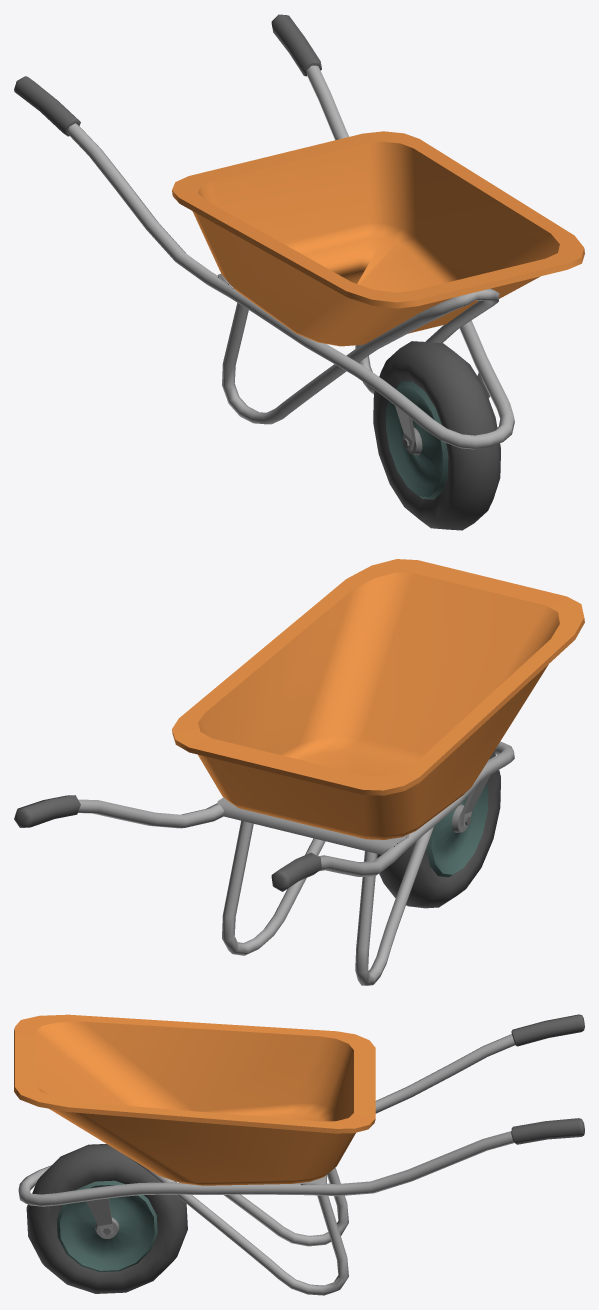
The model's file is WheelbarrowO.gltf.
3 renders of one model, top to bottom at view 1: azimuth 30°, elevation 25°; view 2: azimuth 150°, elevation 25°; view 3: azimuth 270°, elevation 25°, orthographic. The views are drawn at different scales.
Parts seen in each view (by area): view 1: body, wheel_0, wheel_1; view 2: body, wheel_0; view 3: body, wheel_0, wheel_2.
Boxes of the visible parts, box(x1,y1,x2,y2) form: body: box(14, 14, 584, 496); wheel_0: box(373, 341, 500, 530); wheel_1: box(395, 381, 448, 499); body: box(14, 559, 584, 985); wheel_0: box(377, 751, 500, 908); body: box(14, 1014, 584, 1295); wheel_0: box(26, 1144, 187, 1293); wheel_2: box(57, 1180, 157, 1272).
Bounding box in the file's own units: 0.8801 × 0.8601 × 1.89.
1 material, 1 textured.
